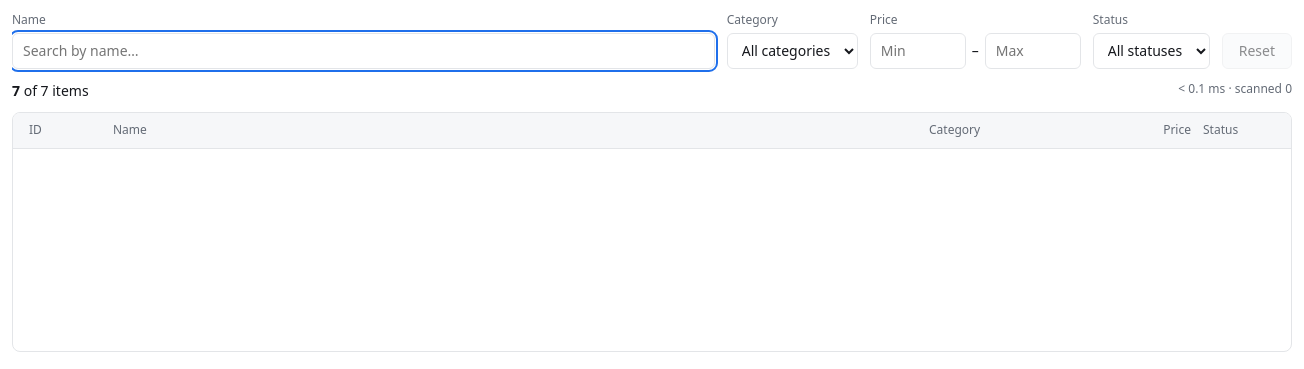
Test: SearchApp › resets every control and the results
Step 1. Type "digital" into the search field → {"x": 363, "y": 51}, box [12,33,715,69]
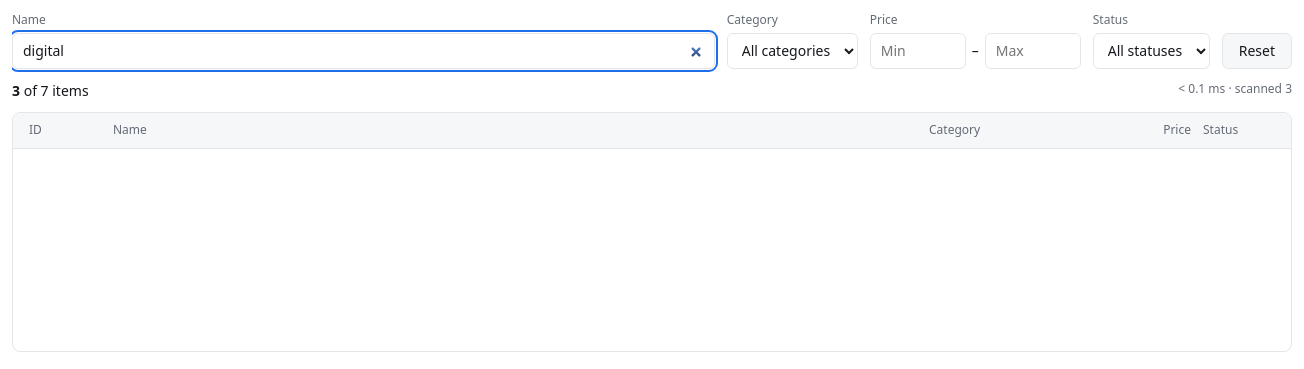
Step 2. Select "Active" in the dropdown labelled "Status" → {"x": 1151, "y": 51}, box [1093,33,1210,69]
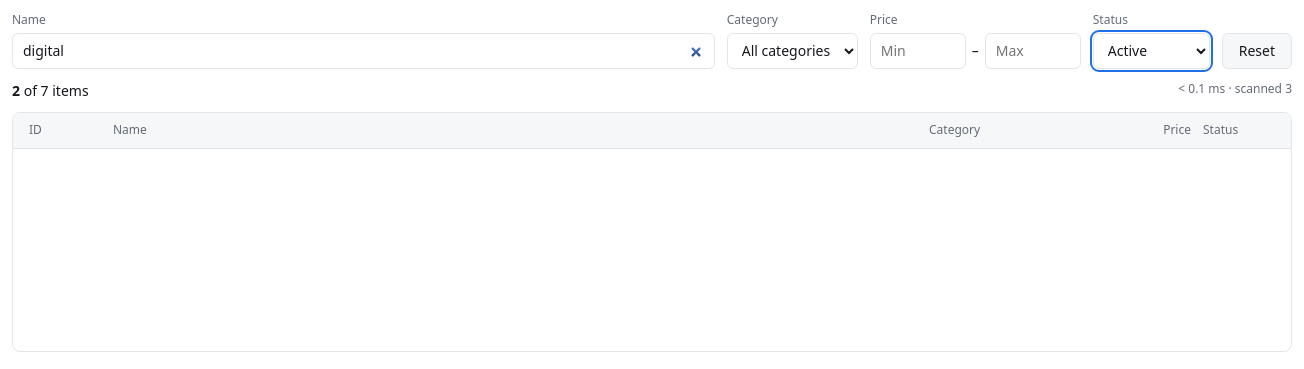
Now the text "2 of 7 items" is shown, box [12,81,89,100]
Step 3. Click the button "Reset" → {"x": 1257, "y": 51}, box [1222,33,1292,69]
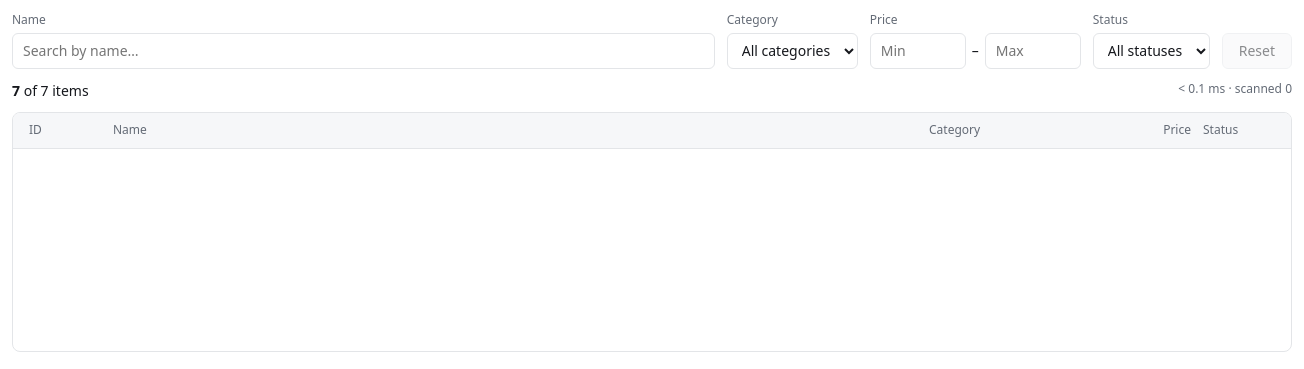
Now the text "7 of 7 items" is shown, box [12,81,89,100]
Now the search field is empty, box [12,33,715,69]
Now the button "Reset" is disabled, box [1222,33,1292,69]
